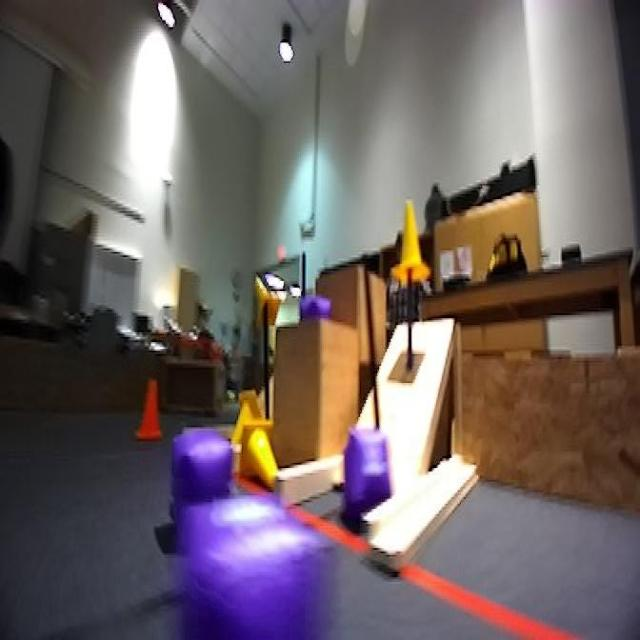frc_cone: (242, 417, 279, 485), (394, 201, 426, 276), (252, 274, 283, 332), (235, 390, 268, 424)
frc_cube: (176, 517, 338, 640), (175, 424, 249, 551), (341, 429, 390, 511), (312, 302, 333, 324)
